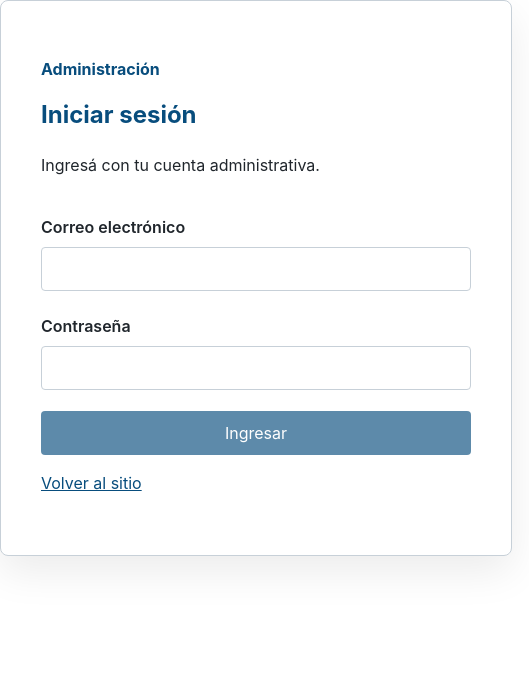
Test: LoginPage › shows a generic credential error and clears the password after a rejected login
This screenshot has width=529, height=678.
Type "admin@example.test" into the field with id "email". click: (256, 269)
box: [41,247,471,291]
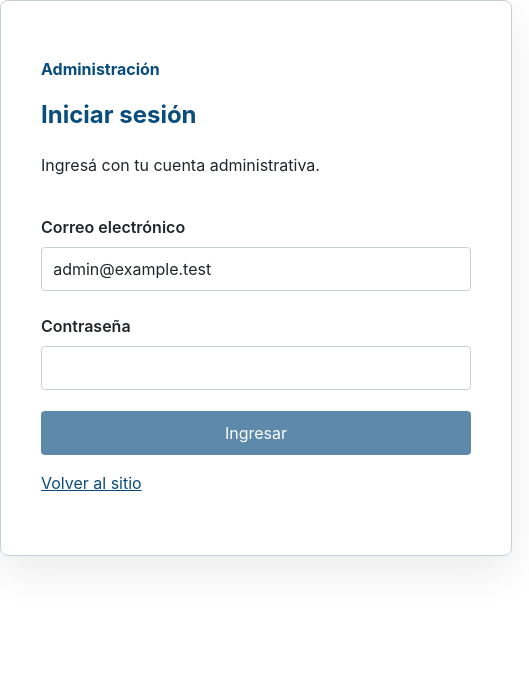
Type "not-a-real-password" into the password field labelled "Contraseña". click: (256, 368)
box: [41,346,471,390]
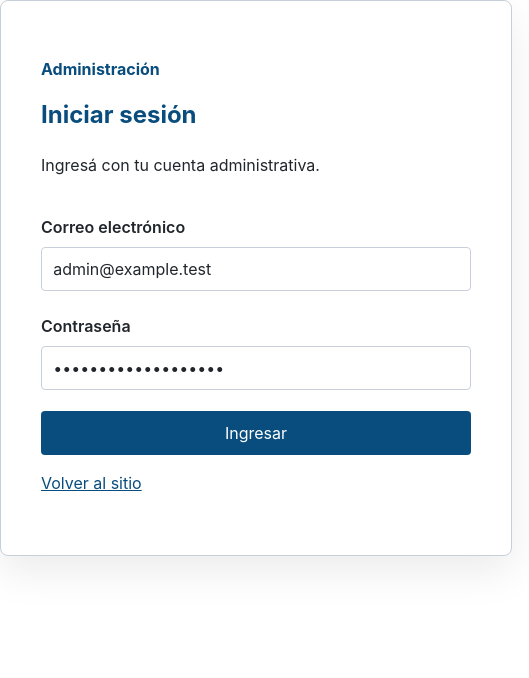
Submit the form, box [41,201,471,455]
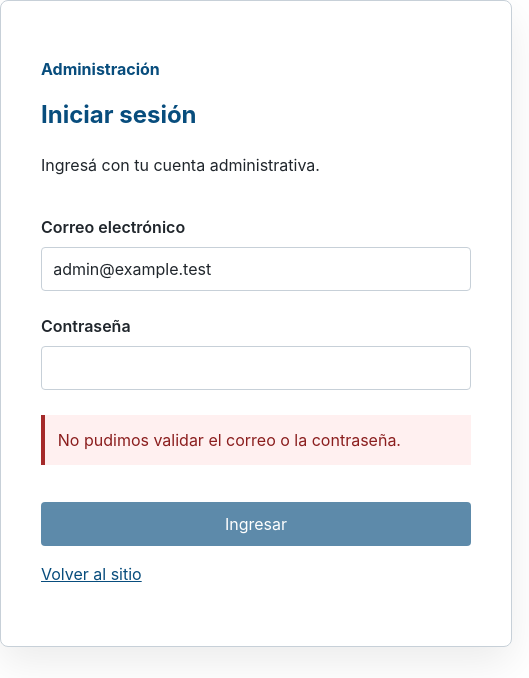
expect the message "No pudimos validar el correo o la contraseña." is shown: met, box [41,415,471,465]
expect the password field labelled "Contraseña" is empty: met, box [41,346,471,390]
